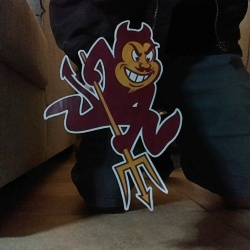sparky: (42, 19, 182, 211)
